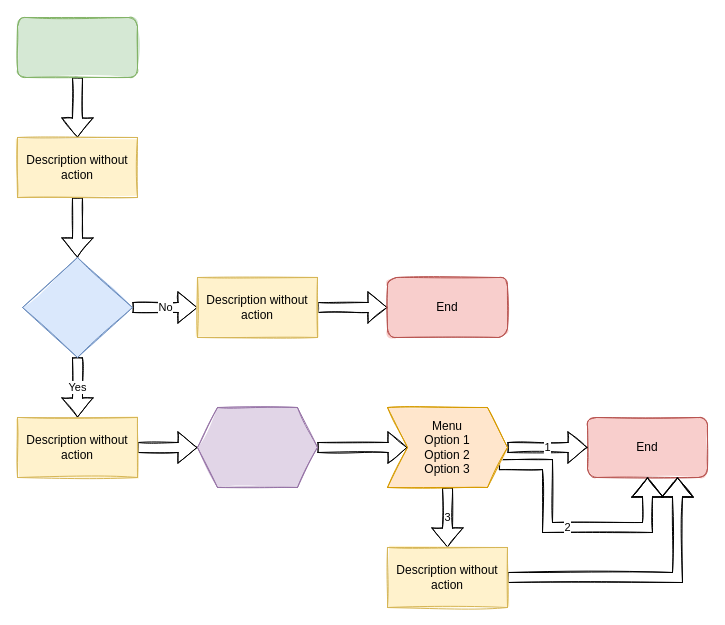
The diagram is 725 pixels wide and 625 high, and some of its shapes have lost their labels. Here are the shapes that lost their labels. From the top down, the centre of each, then its label:
point (77, 47): Start
point (77, 307): Decision to me made
point (257, 447): Automatic transition
